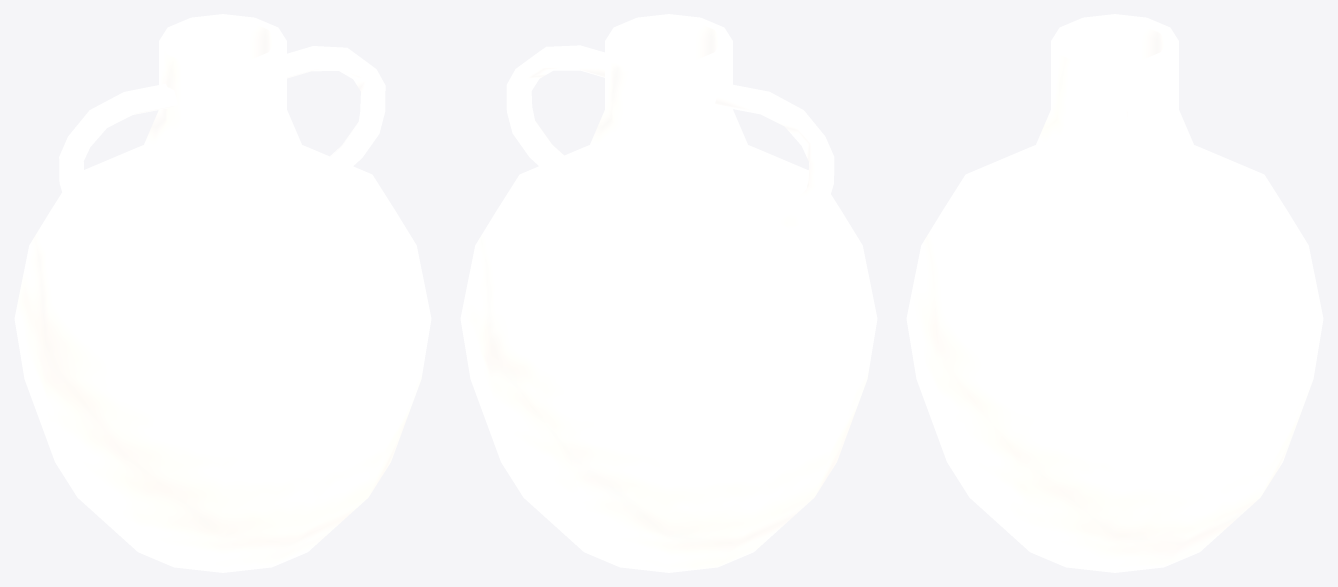
Rendered from jug_handles.glb.
3 views of the same model, side by side, from view 1: azimuth 30°, elevation 25°; view 2: azimuth 150°, elevation 25°; view 3: azimuth 270°, elevation 25° (orthographic).
Visible parts, largest first — view 1: defaultMaterial.007; view 2: defaultMaterial.007; view 3: defaultMaterial.007.
Boxes of the visible parts, box(x1,y1,x2,y2) form: defaultMaterial.007: box(14, 14, 431, 572); defaultMaterial.007: box(460, 14, 877, 572); defaultMaterial.007: box(906, 14, 1323, 572).
Size of the model in its own units: 0.3415 by 0.4432 by 0.3415.
Materials: 1 (1 with a texture image).
